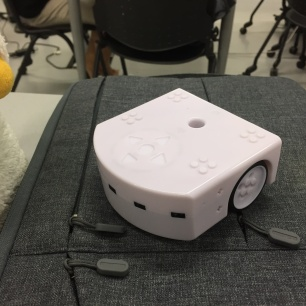thymio: (88, 87, 283, 239)
